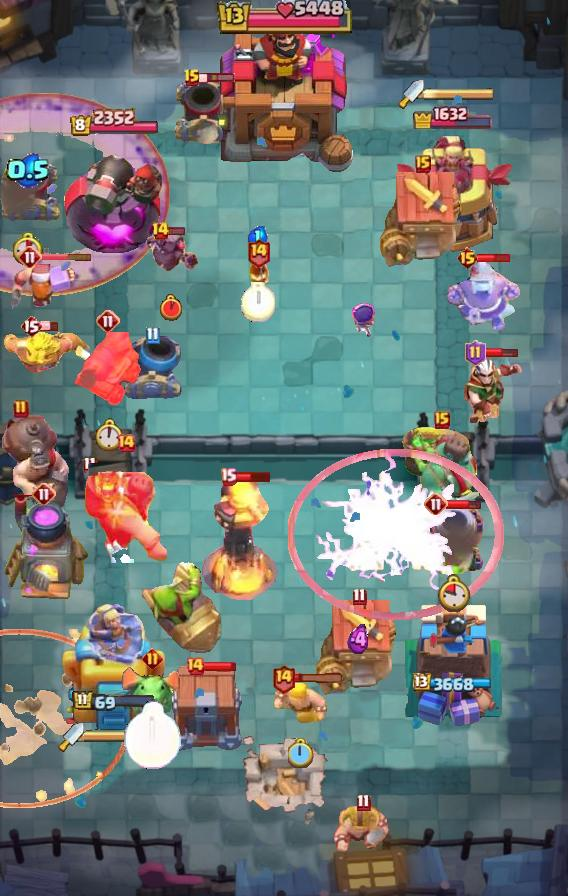archer: (274, 683, 328, 727)
bar: (391, 132, 515, 256), (59, 595, 169, 731)
barbarian-evolution: (288, 448, 504, 620)
battle-ram: (141, 227, 201, 275)
bomb: (167, 666, 245, 752)
bomber: (247, 258, 269, 284)
clock: (215, 0, 353, 36)
electro-dragon: (200, 475, 280, 603)
electro-spirit: (6, 153, 51, 187), (347, 624, 371, 656), (248, 225, 268, 247)
electro-wizard: (120, 664, 184, 724)
elixir: (123, 702, 182, 771), (241, 282, 275, 322), (438, 574, 471, 612), (13, 232, 43, 265), (94, 418, 122, 450), (288, 738, 314, 768), (160, 294, 182, 322)
elixir-collector: (445, 258, 521, 334)
emote: (293, 672, 345, 683), (235, 469, 272, 483), (446, 497, 482, 511), (39, 251, 93, 260), (200, 72, 237, 84), (476, 252, 511, 264), (485, 347, 520, 359), (203, 661, 237, 672), (40, 320, 59, 331), (166, 226, 185, 236)
goblin: (347, 301, 377, 341)
goblin-cage: (422, 504, 486, 574)
goblin-giant: (332, 804, 394, 856)
goblin-hut: (2, 329, 90, 375)
guard: (0, 628, 131, 807)
hunter: (0, 495, 90, 603)
king-tower: (211, 7, 357, 181)
king-tower-bar: (424, 87, 496, 101), (84, 730, 154, 744)
lava-hound: (82, 453, 170, 563), (402, 420, 482, 518)
mighty-miner: (9, 262, 77, 316)
musketeer: (172, 79, 236, 145), (0, 157, 62, 225), (122, 335, 182, 399)
queen-tower: (402, 599, 507, 731)
rocket: (0, 92, 171, 296)
royal-giant-evolution: (74, 332, 142, 406)
selected: (68, 110, 159, 139), (412, 103, 494, 129), (72, 690, 156, 714), (414, 673, 495, 695)
skeleton-king: (459, 357, 525, 423)
sparky: (380, 171, 466, 269), (316, 599, 402, 697)
text: (245, 237, 270, 267), (272, 662, 296, 693), (18, 245, 42, 269), (96, 309, 120, 333), (32, 482, 56, 506), (424, 492, 448, 516), (457, 246, 480, 270), (465, 340, 486, 366), (20, 314, 42, 338), (142, 647, 163, 669), (150, 221, 170, 241), (116, 433, 136, 453), (185, 656, 205, 676), (183, 68, 201, 88), (13, 399, 29, 419), (219, 467, 236, 485), (415, 155, 431, 173), (434, 411, 450, 429), (145, 327, 160, 345), (353, 587, 367, 606), (357, 792, 371, 811)
tower-bar: (64, 138, 164, 256)
wizard: (0, 413, 70, 523)
x-bow: (142, 562, 222, 656)
